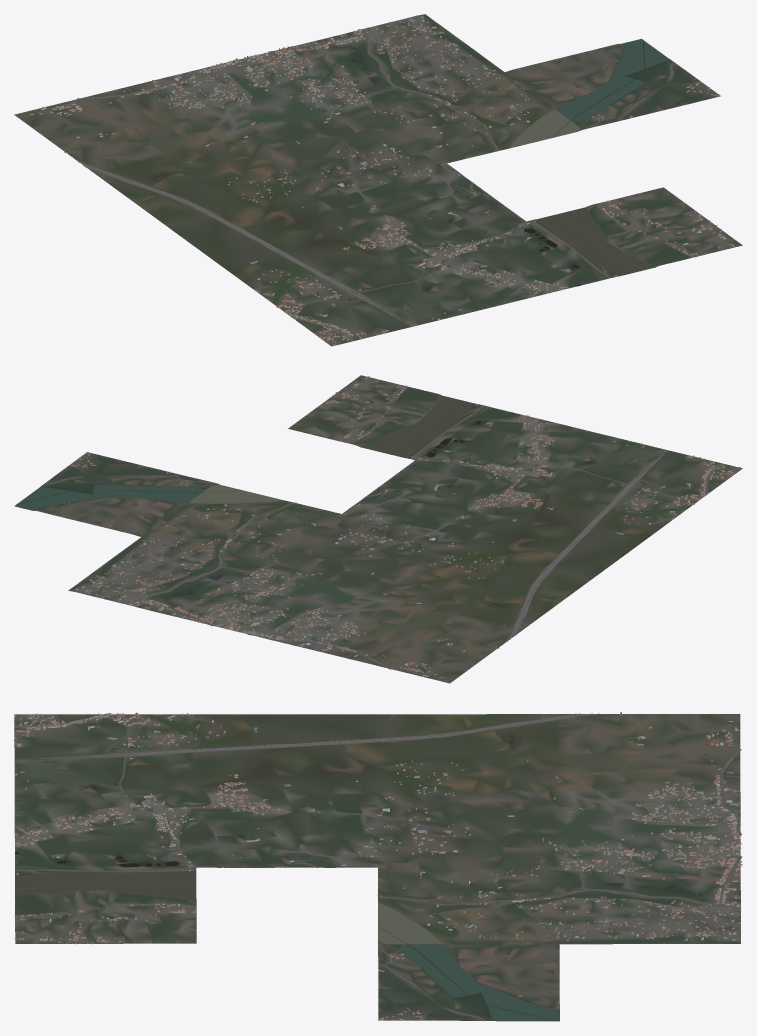
3 views of the same model, one above another, from view 1: azimuth 30°, elevation 25°; view 2: azimuth 150°, elevation 25°; view 3: azimuth 270°, elevation 25° (orthographic). The views are drawn at different scales.
Parts seen in each view (by area): view 1: ground, buildings, water, roads; view 2: ground, buildings, water, roads; view 3: ground, buildings, water, roads.
Part boxes in pixels (box(x1,y1,x2,y2)): ground: box(14, 14, 742, 346); buildings: box(28, 16, 734, 345); water: box(100, 39, 668, 300); roads: box(75, 29, 692, 341); ground: box(16, 375, 742, 683); buildings: box(68, 376, 741, 678); water: box(14, 395, 646, 657); roads: box(44, 386, 723, 669); ground: box(14, 714, 740, 1021); buildings: box(14, 712, 742, 1020); water: box(15, 736, 717, 1020); roads: box(14, 713, 742, 1021).
Bounding box in the file's own units: 5625 × 27.5 × 5632.
